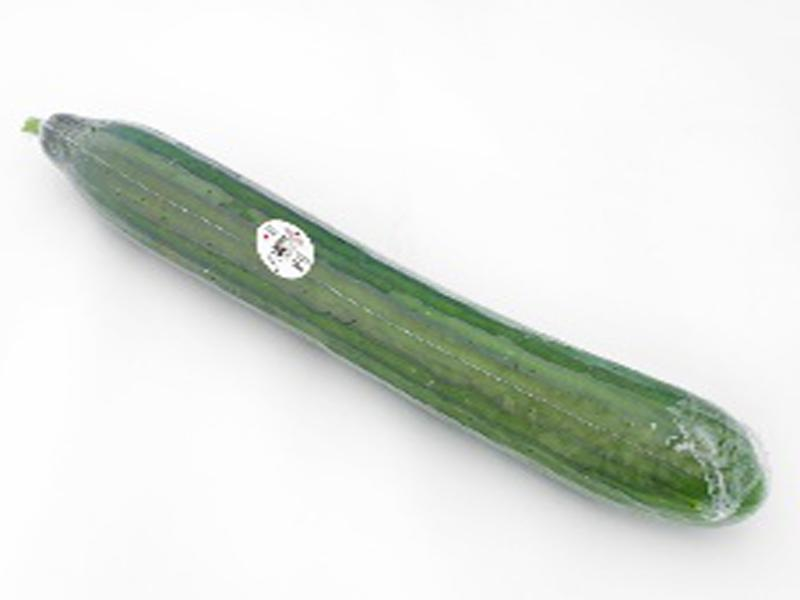Cucumber: (24, 111, 760, 521)
